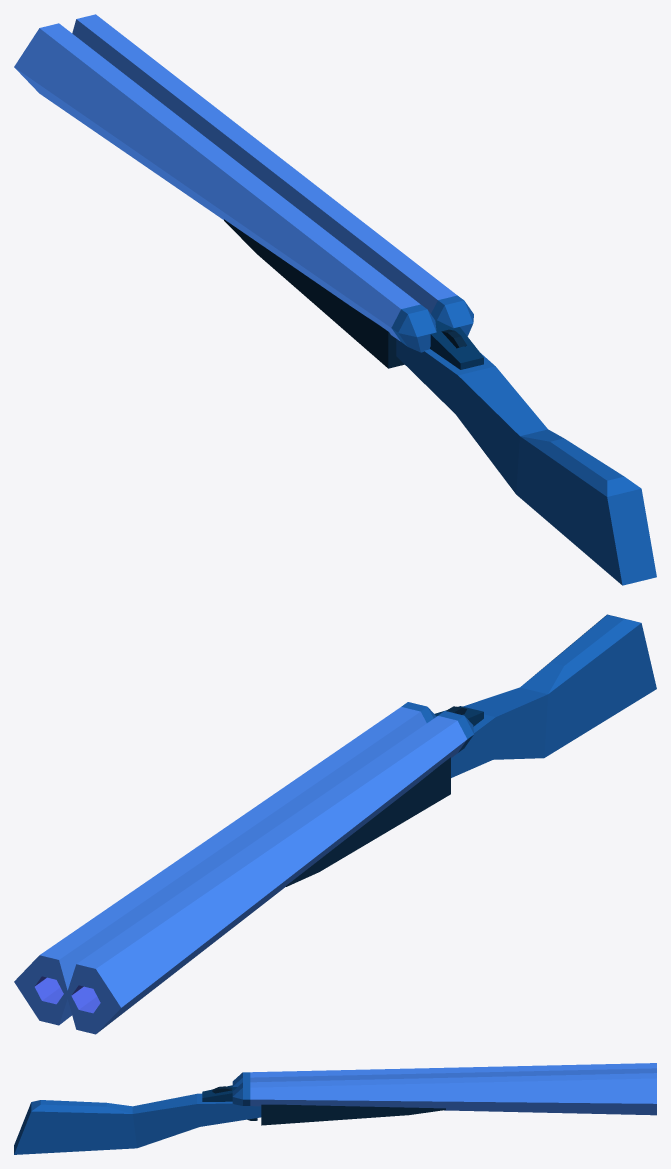
File: DoubleBarrelSuper.glb
3 views of the same model, one above another, from view 1: azimuth 30°, elevation 25°; view 2: azimuth 150°, elevation 25°; view 3: azimuth 270°, elevation 25° (orthographic). The views are drawn at different scales.
Visible parts, largest first — view 1: Chambers (×2), cuboid (×3), cylinder (×2); view 2: Chambers (×2), cuboid (×2); view 3: Chambers (×2), cuboid (×3), cylinder (×2).
Boxes of the visible parts, x1,y1,x2,y2 form: Chambers (×2): [14, 14, 457, 341]; cuboid (×3): [224, 219, 656, 585]; cylinder (×2): [391, 295, 473, 352]; Chambers (×2): [14, 707, 467, 1034]; cuboid (×2): [286, 614, 656, 886]; Chambers (×2): [250, 1063, 656, 1115]; cuboid (×3): [14, 1085, 445, 1154]; cylinder (×2): [232, 1072, 250, 1105].
Bounding box in the file's own units: 0.4281 × 0.5396 × 3.95.
Materials: 1 (1 with a texture image).
